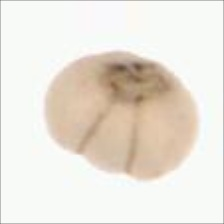L5: (75, 101, 140, 177), (102, 58, 177, 103)
L6: (42, 49, 201, 185)
